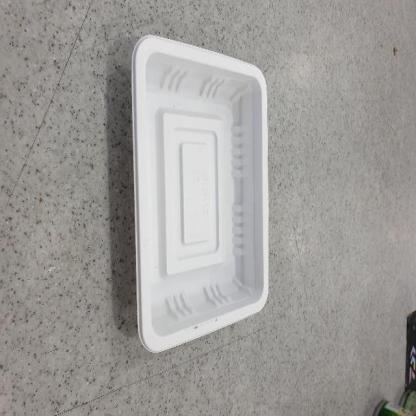Glass Cup: (130, 34, 270, 354), (132, 35, 269, 352)
